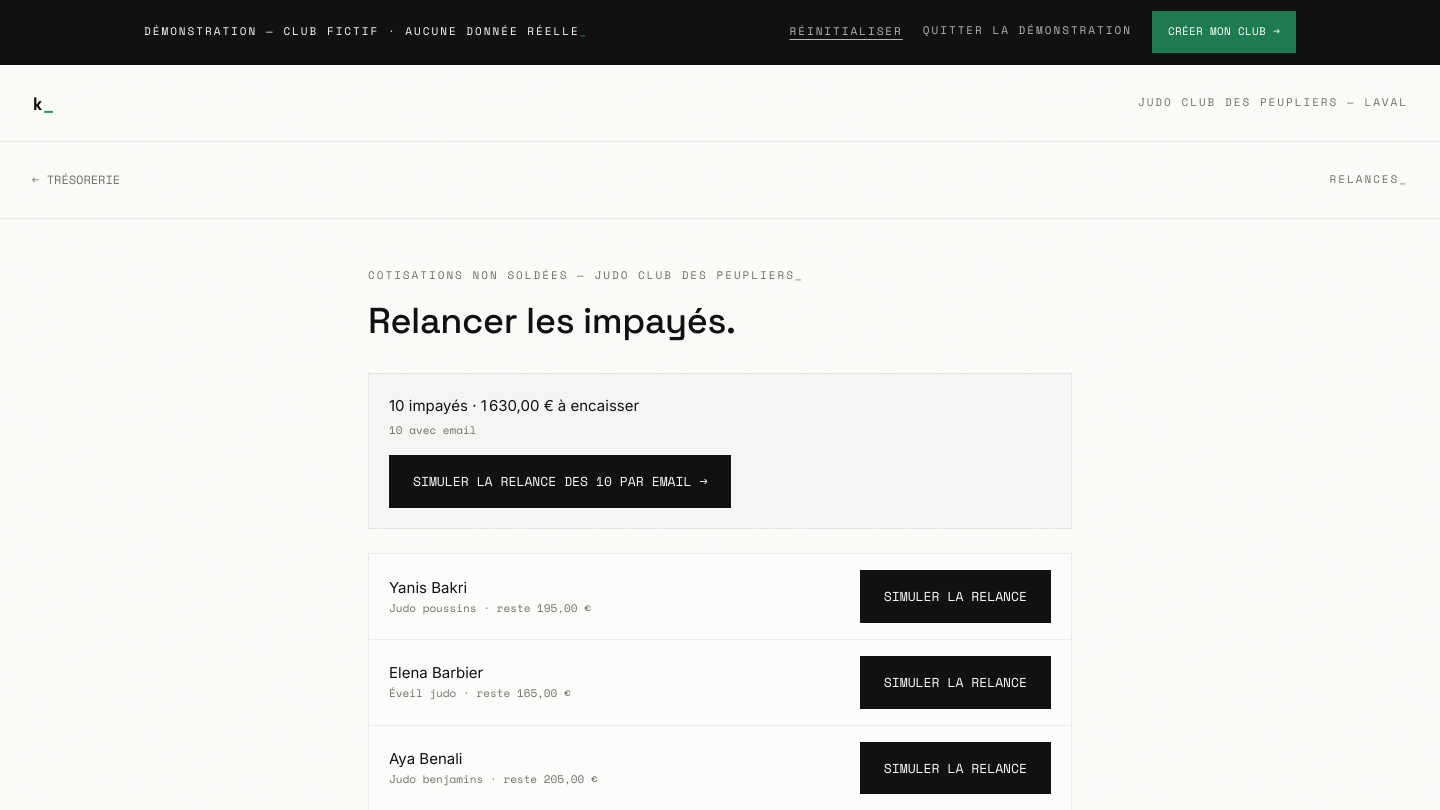
Test: les relances › date la relance sans rien envoyer, et le dit
This screenshot has width=1440, height=810.
Click the button "SIMULER LA RELANCE" in the row of "195,00 €": point(955, 596) [860, 570, 1051, 623]
Wait 450 ms
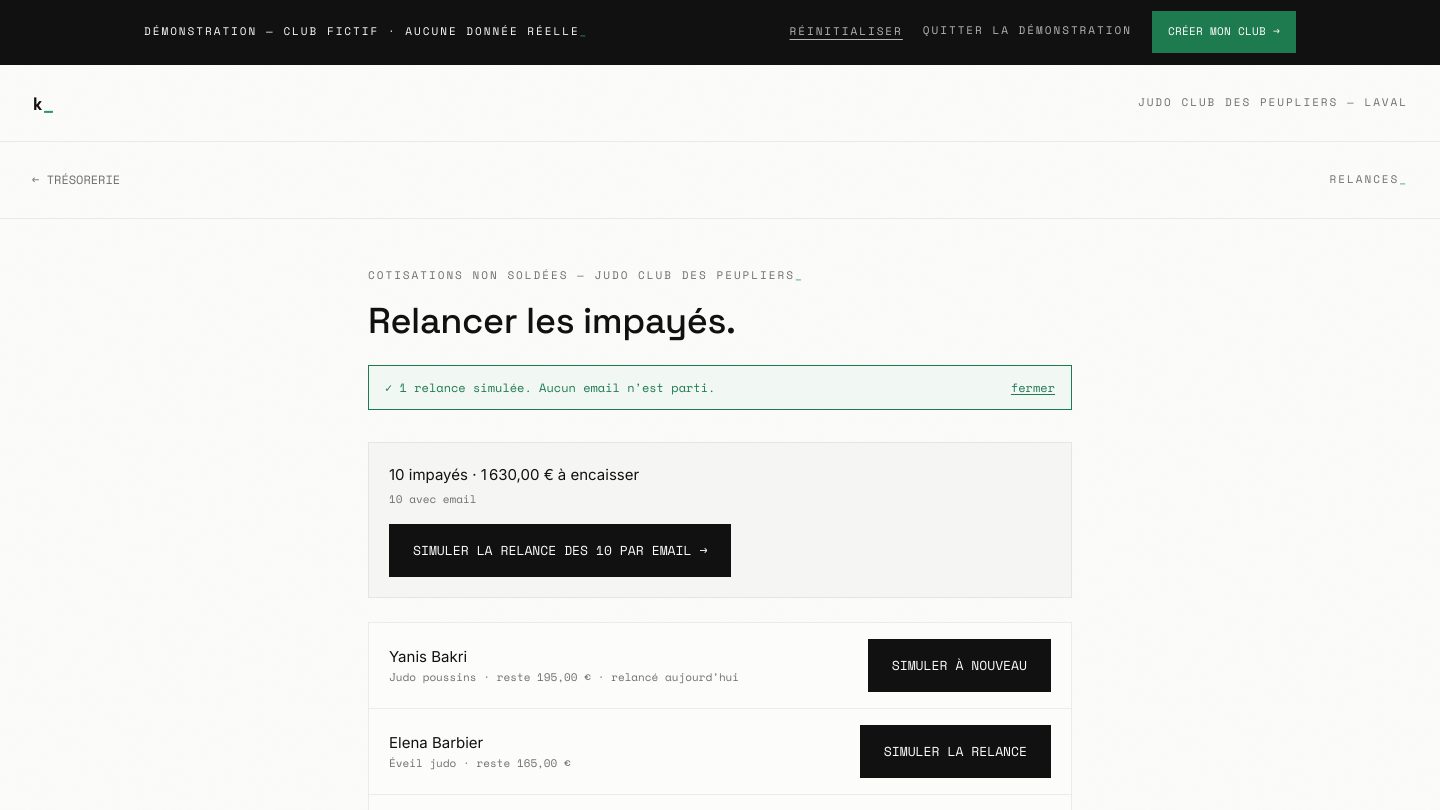
Expected: the text "✓ 1 relance simulée. Aucun email n’est parti." is shown, [385, 379, 715, 396]
